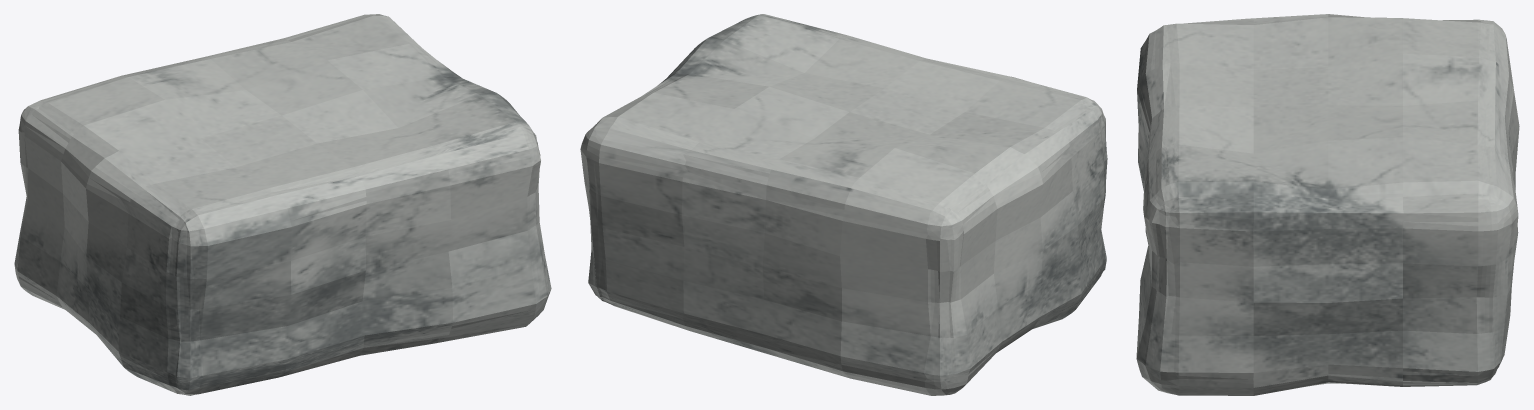
The model's file is debris_concrete_00.glb.
The picture shows the model from 3 angles, left to right: view 1: azimuth 30°, elevation 25°; view 2: azimuth 150°, elevation 25°; view 3: azimuth 270°, elevation 25°; orthographic projection. The views are drawn at different scales.
Visible parts, largest first — view 1: Debris; view 2: Debris; view 3: Debris.
Boxes of the visible parts, x1,y1,x2,y2 form: Debris: (14,14,551,395); Debris: (580,14,1107,395); Debris: (1136,14,1519,395).
Bounding box in the file's own units: 0.3006 × 0.1504 × 0.2411.
Materials: 1 (1 with a texture image).
